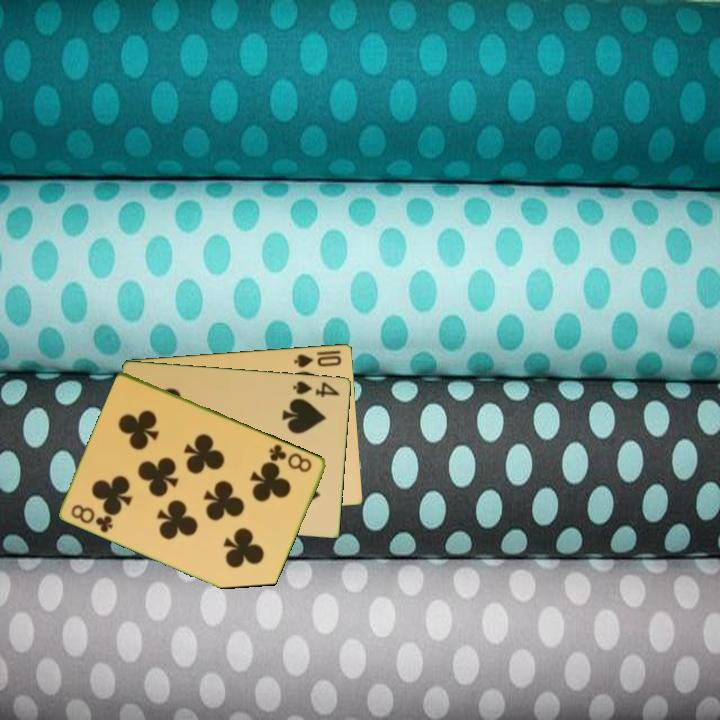10s: (291, 350, 345, 370)
4s: (290, 377, 343, 400)
8c: (266, 440, 315, 475), (68, 501, 116, 536)
